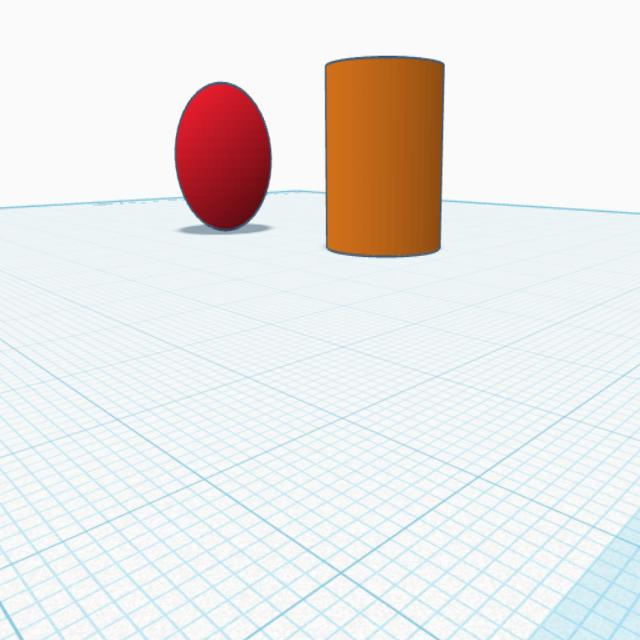sphere: (170, 75, 275, 235)
